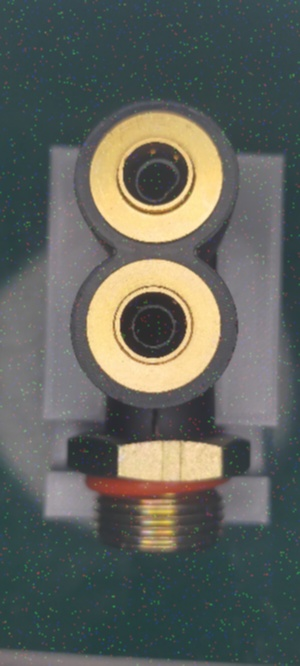craze: (148, 410, 162, 444)
off-centered: (130, 152, 185, 209)
